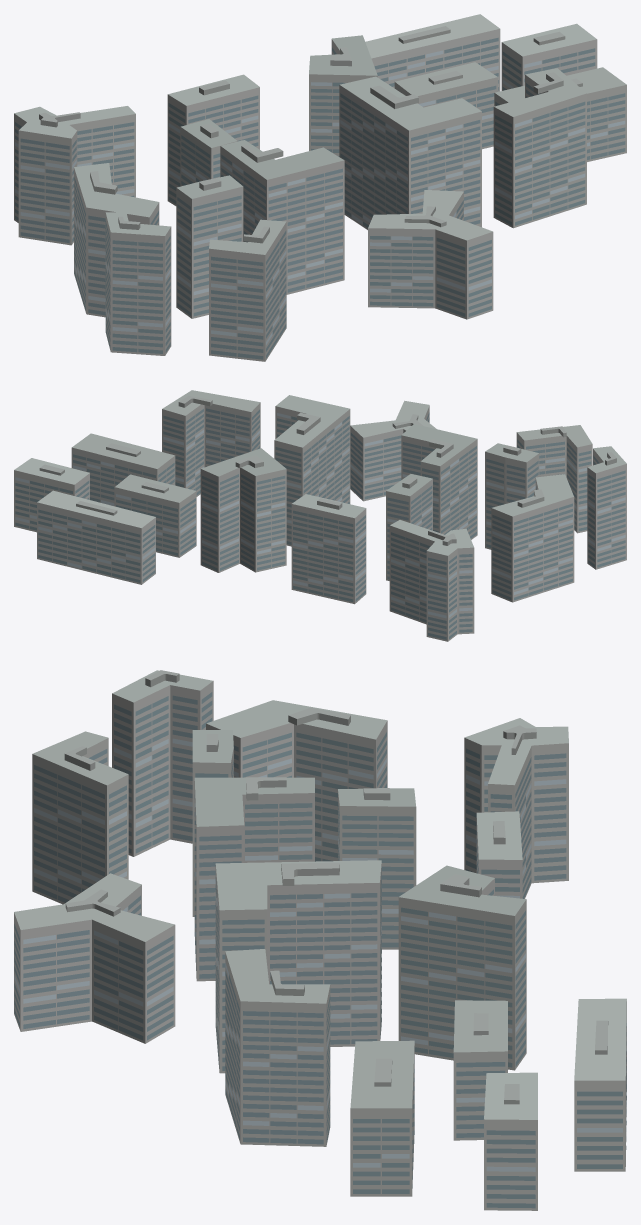
The model's file is apt-a12275202.glb.
The picture shows the model from 3 angles, top to bottom: view 1: azimuth 30°, elevation 25°; view 2: azimuth 150°, elevation 25°; view 3: azimuth 270°, elevation 25°; orthographic projection. The views are drawn at different scales.
Parts seen in each view (by area): view 1: apt-a12275202; view 2: apt-a12275202; view 3: apt-a12275202.
Boxes of the visible parts, box(x1,y1,x2,y2) form: apt-a12275202: box(14, 14, 626, 361); apt-a12275202: box(14, 390, 626, 641); apt-a12275202: box(14, 670, 626, 1210).
Size of the model in its own units: 287 by 59 by 193.
